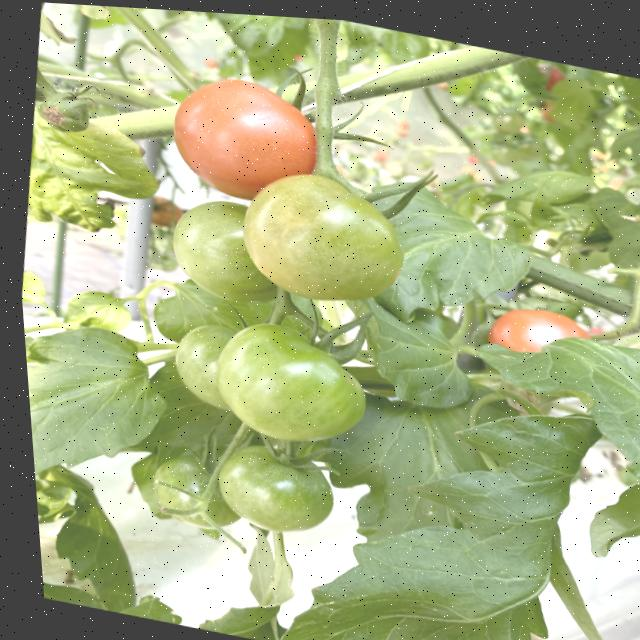ripe0: (242, 160, 405, 317), (214, 310, 370, 454), (215, 436, 337, 542)
ripe2: (171, 67, 316, 208)
